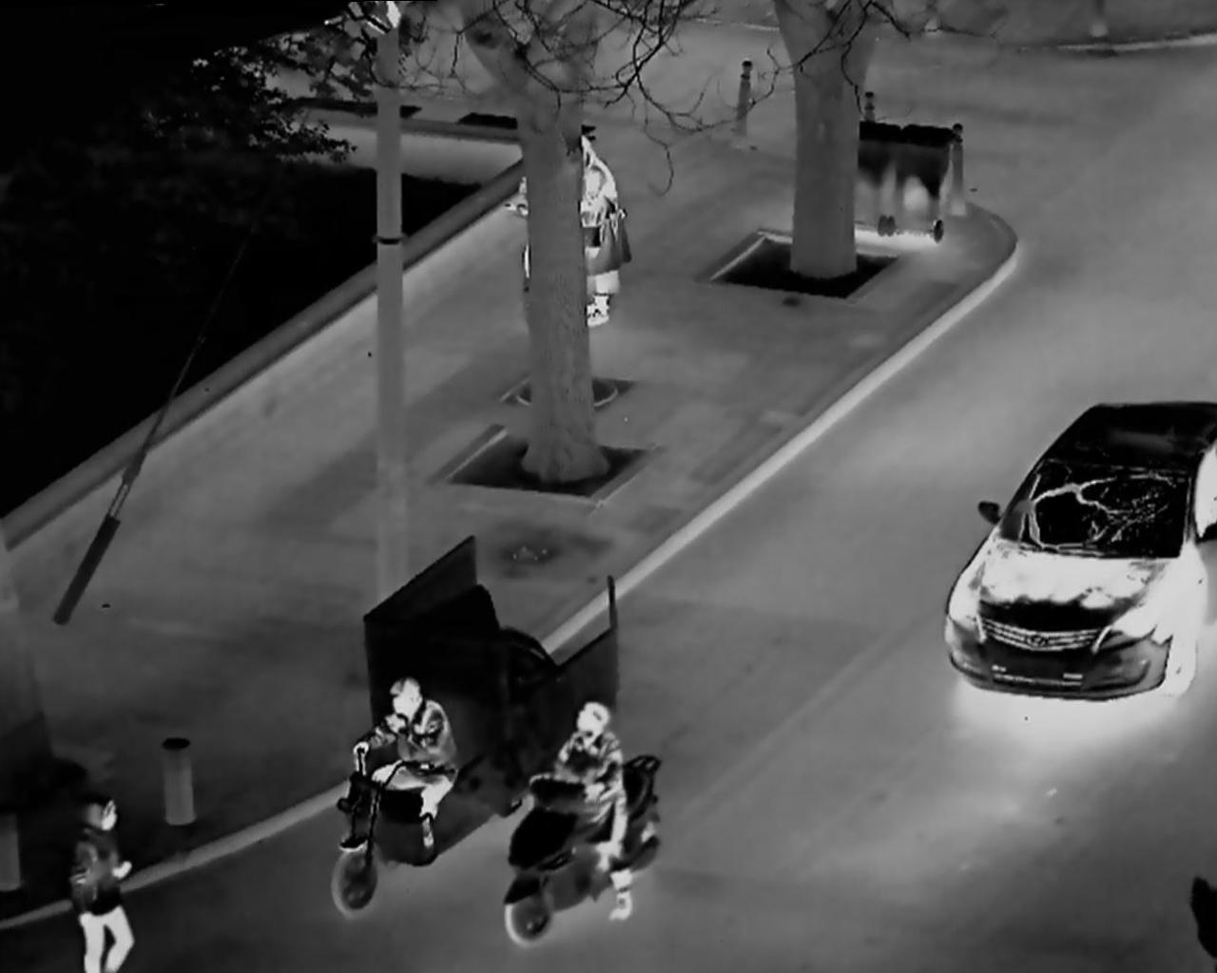person: (512, 673, 655, 921), (339, 662, 464, 878), (50, 776, 167, 969), (555, 121, 645, 321)
